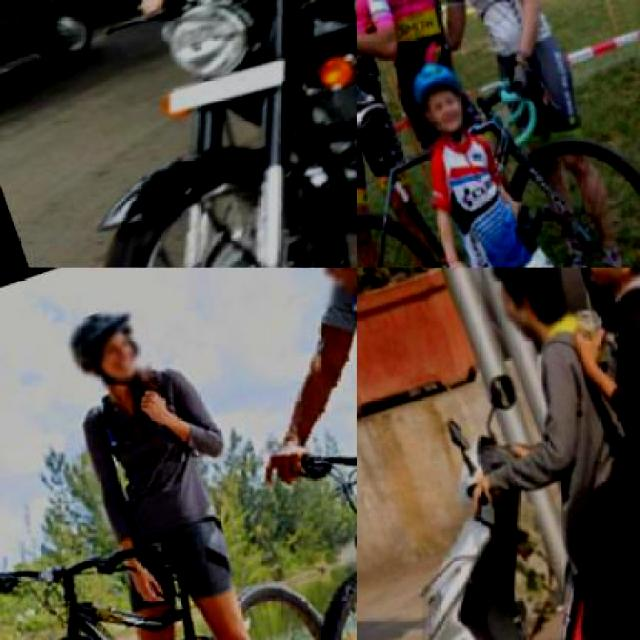With Helmet: (50, 304, 155, 404), (392, 52, 474, 150), (288, 268, 355, 318)
Without Helmet: (475, 268, 580, 354), (557, 268, 638, 315)
